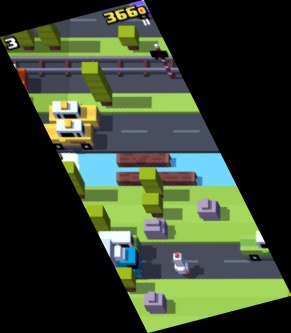car: (238, 230, 291, 261), (43, 120, 97, 150), (47, 99, 101, 129), (91, 230, 140, 253), (1, 65, 29, 91)
duck: (171, 253, 195, 276)
light off: (149, 44, 178, 80)
log: (115, 171, 198, 186), (115, 152, 172, 168)
rail: (1, 55, 191, 79)
rock: (196, 199, 222, 224), (141, 291, 166, 314), (143, 219, 169, 240)
tree: (79, 61, 113, 107), (59, 162, 87, 200), (34, 18, 62, 52), (10, 19, 37, 52), (85, 204, 115, 233), (137, 168, 166, 196), (111, 267, 138, 294), (139, 192, 164, 218), (118, 26, 141, 51)
truck: (61, 238, 145, 277)
water: (53, 151, 237, 186)
